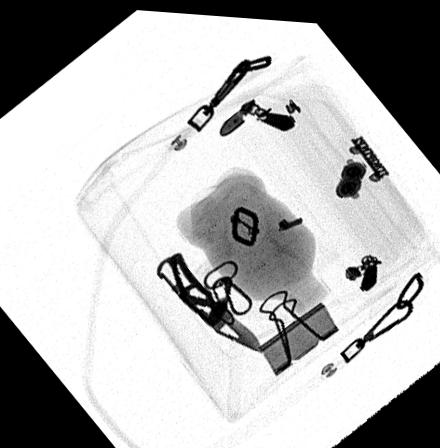Knife: (155, 249, 263, 350)
